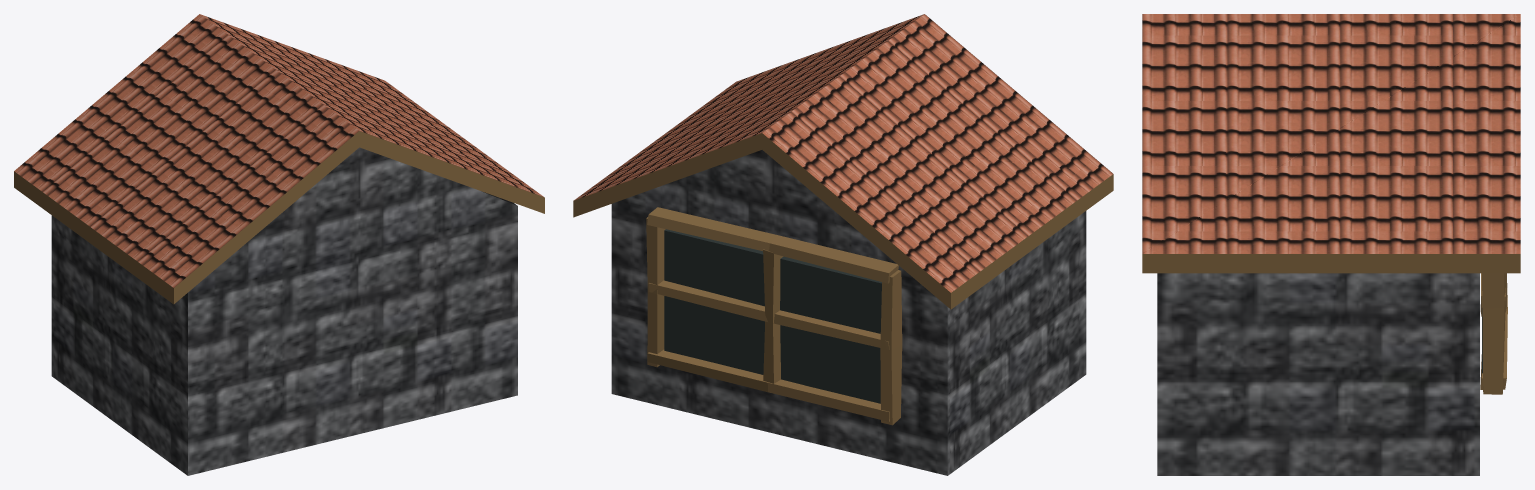
Rendered from town_Dormer_wide.glb.
3 views of the same model, side by side, from view 1: azimuth 30°, elevation 25°; view 2: azimuth 150°, elevation 25°; view 3: azimuth 270°, elevation 25° (orthographic). The views are drawn at different scales.
Visible parts, largest first — view 1: town_Dormer_wide.005; view 2: town_Dormer_wide.005; view 3: town_Dormer_wide.005.
Part boxes in pixels (x1,y1,x2,y2): town_Dormer_wide.005: [14, 14, 544, 475]; town_Dormer_wide.005: [573, 14, 1113, 475]; town_Dormer_wide.005: [1142, 14, 1520, 475].
Size of the model in its own units: 2.36 by 1.88 by 1.76.
Materials: 3 (2 with a texture image).
